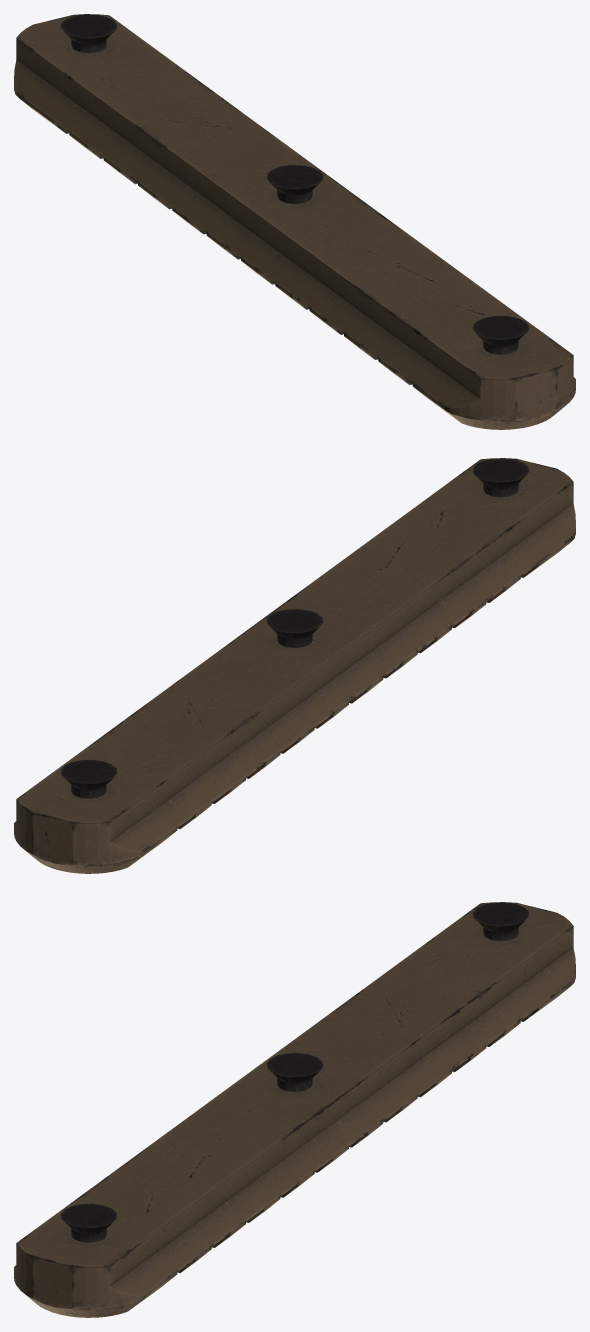
3 renders of one model, top to bottom at view 1: azimuth 30°, elevation 25°; view 2: azimuth 150°, elevation 25°; view 3: azimuth 330°, elevation 25°, orthographic.
Parts seen in each view (by area): view 1: TW_628120dd308cb521f87a8fa1_PZ_Import; view 2: TW_628120dd308cb521f87a8fa1_PZ_Import; view 3: TW_628120dd308cb521f87a8fa1_PZ_Import.
Boxes of the visible parts, x1,y1,x2,y2 form: TW_628120dd308cb521f87a8fa1_PZ_Import: (14, 14, 575, 429); TW_628120dd308cb521f87a8fa1_PZ_Import: (14, 458, 575, 873); TW_628120dd308cb521f87a8fa1_PZ_Import: (14, 902, 575, 1317).
Size of the model in its own units: 0.0123 by 0.0814 by 0.00721.
1 material, 1 textured.
